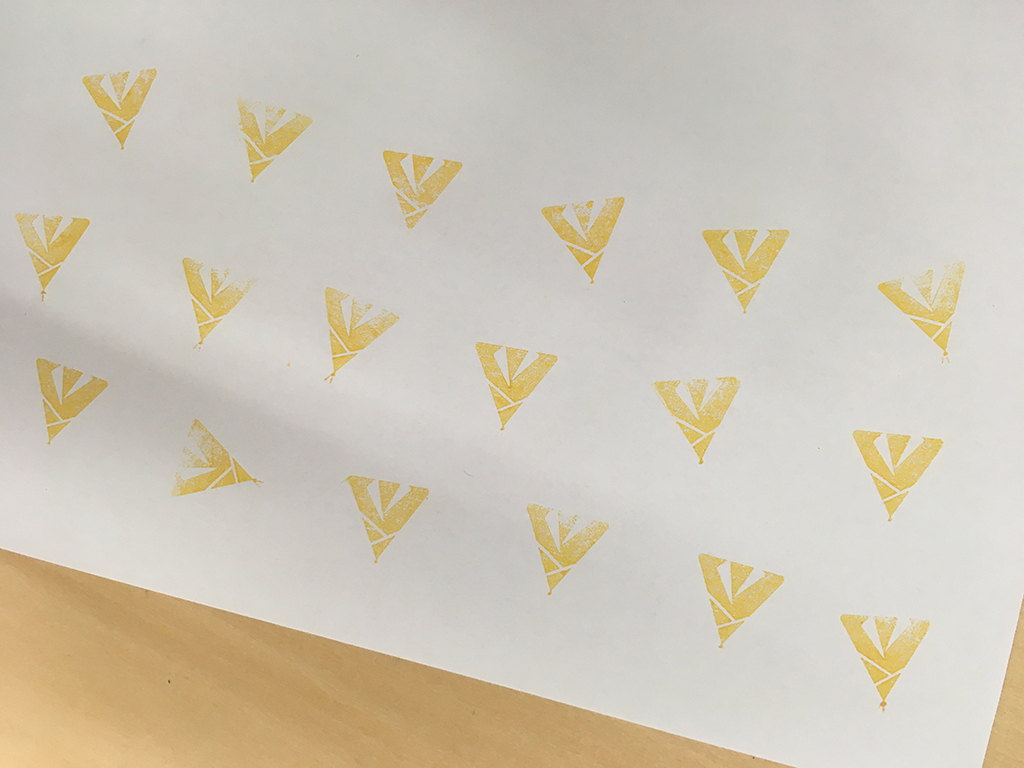tent: (867, 255, 973, 373), (834, 609, 936, 723), (313, 272, 407, 391), (160, 413, 271, 512), (849, 421, 947, 531), (692, 549, 791, 655), (517, 499, 617, 603), (649, 369, 748, 473), (373, 142, 472, 245), (463, 335, 561, 436), (175, 253, 271, 355), (27, 346, 116, 456), (536, 190, 632, 290), (8, 202, 97, 309), (698, 220, 795, 317), (224, 96, 317, 195), (343, 472, 434, 569), (70, 66, 163, 160)
